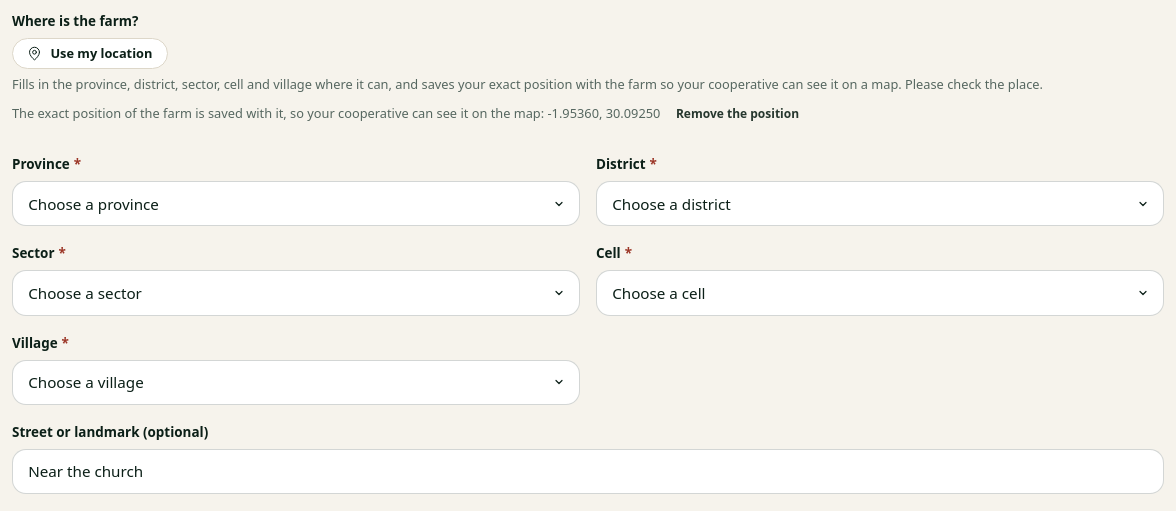
Test: Use my location › the exact position › removes the position and keeps the place
Click the button "Remove the position" at (737, 115), box [664, 102, 811, 127]
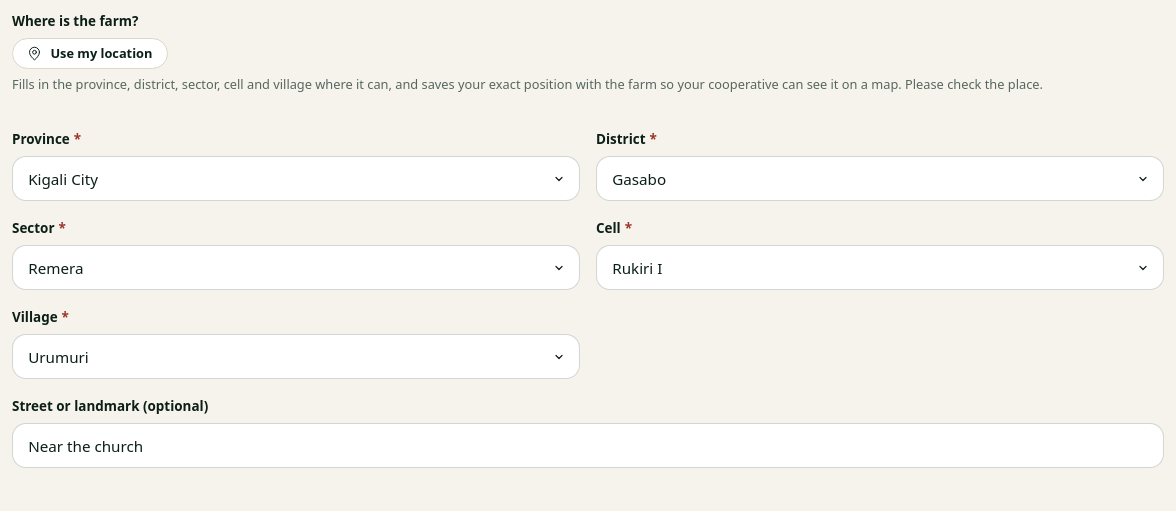
Expected: the text "The exact position of the farm" is gone
